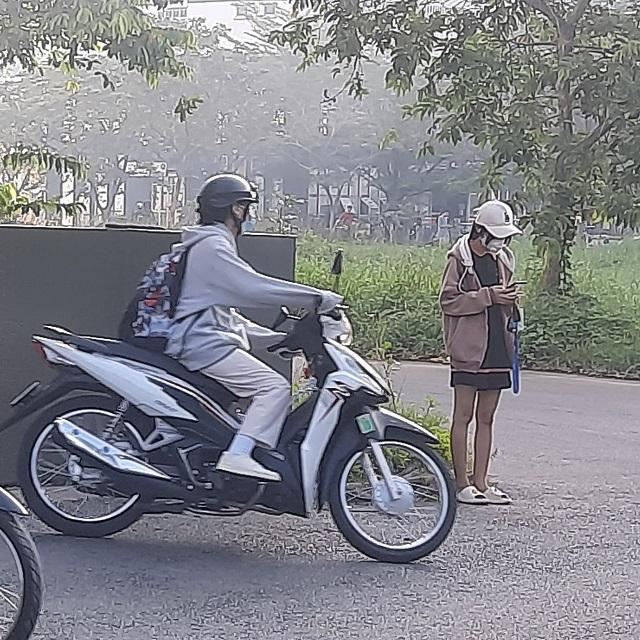Helmet: (195, 172, 258, 232)
